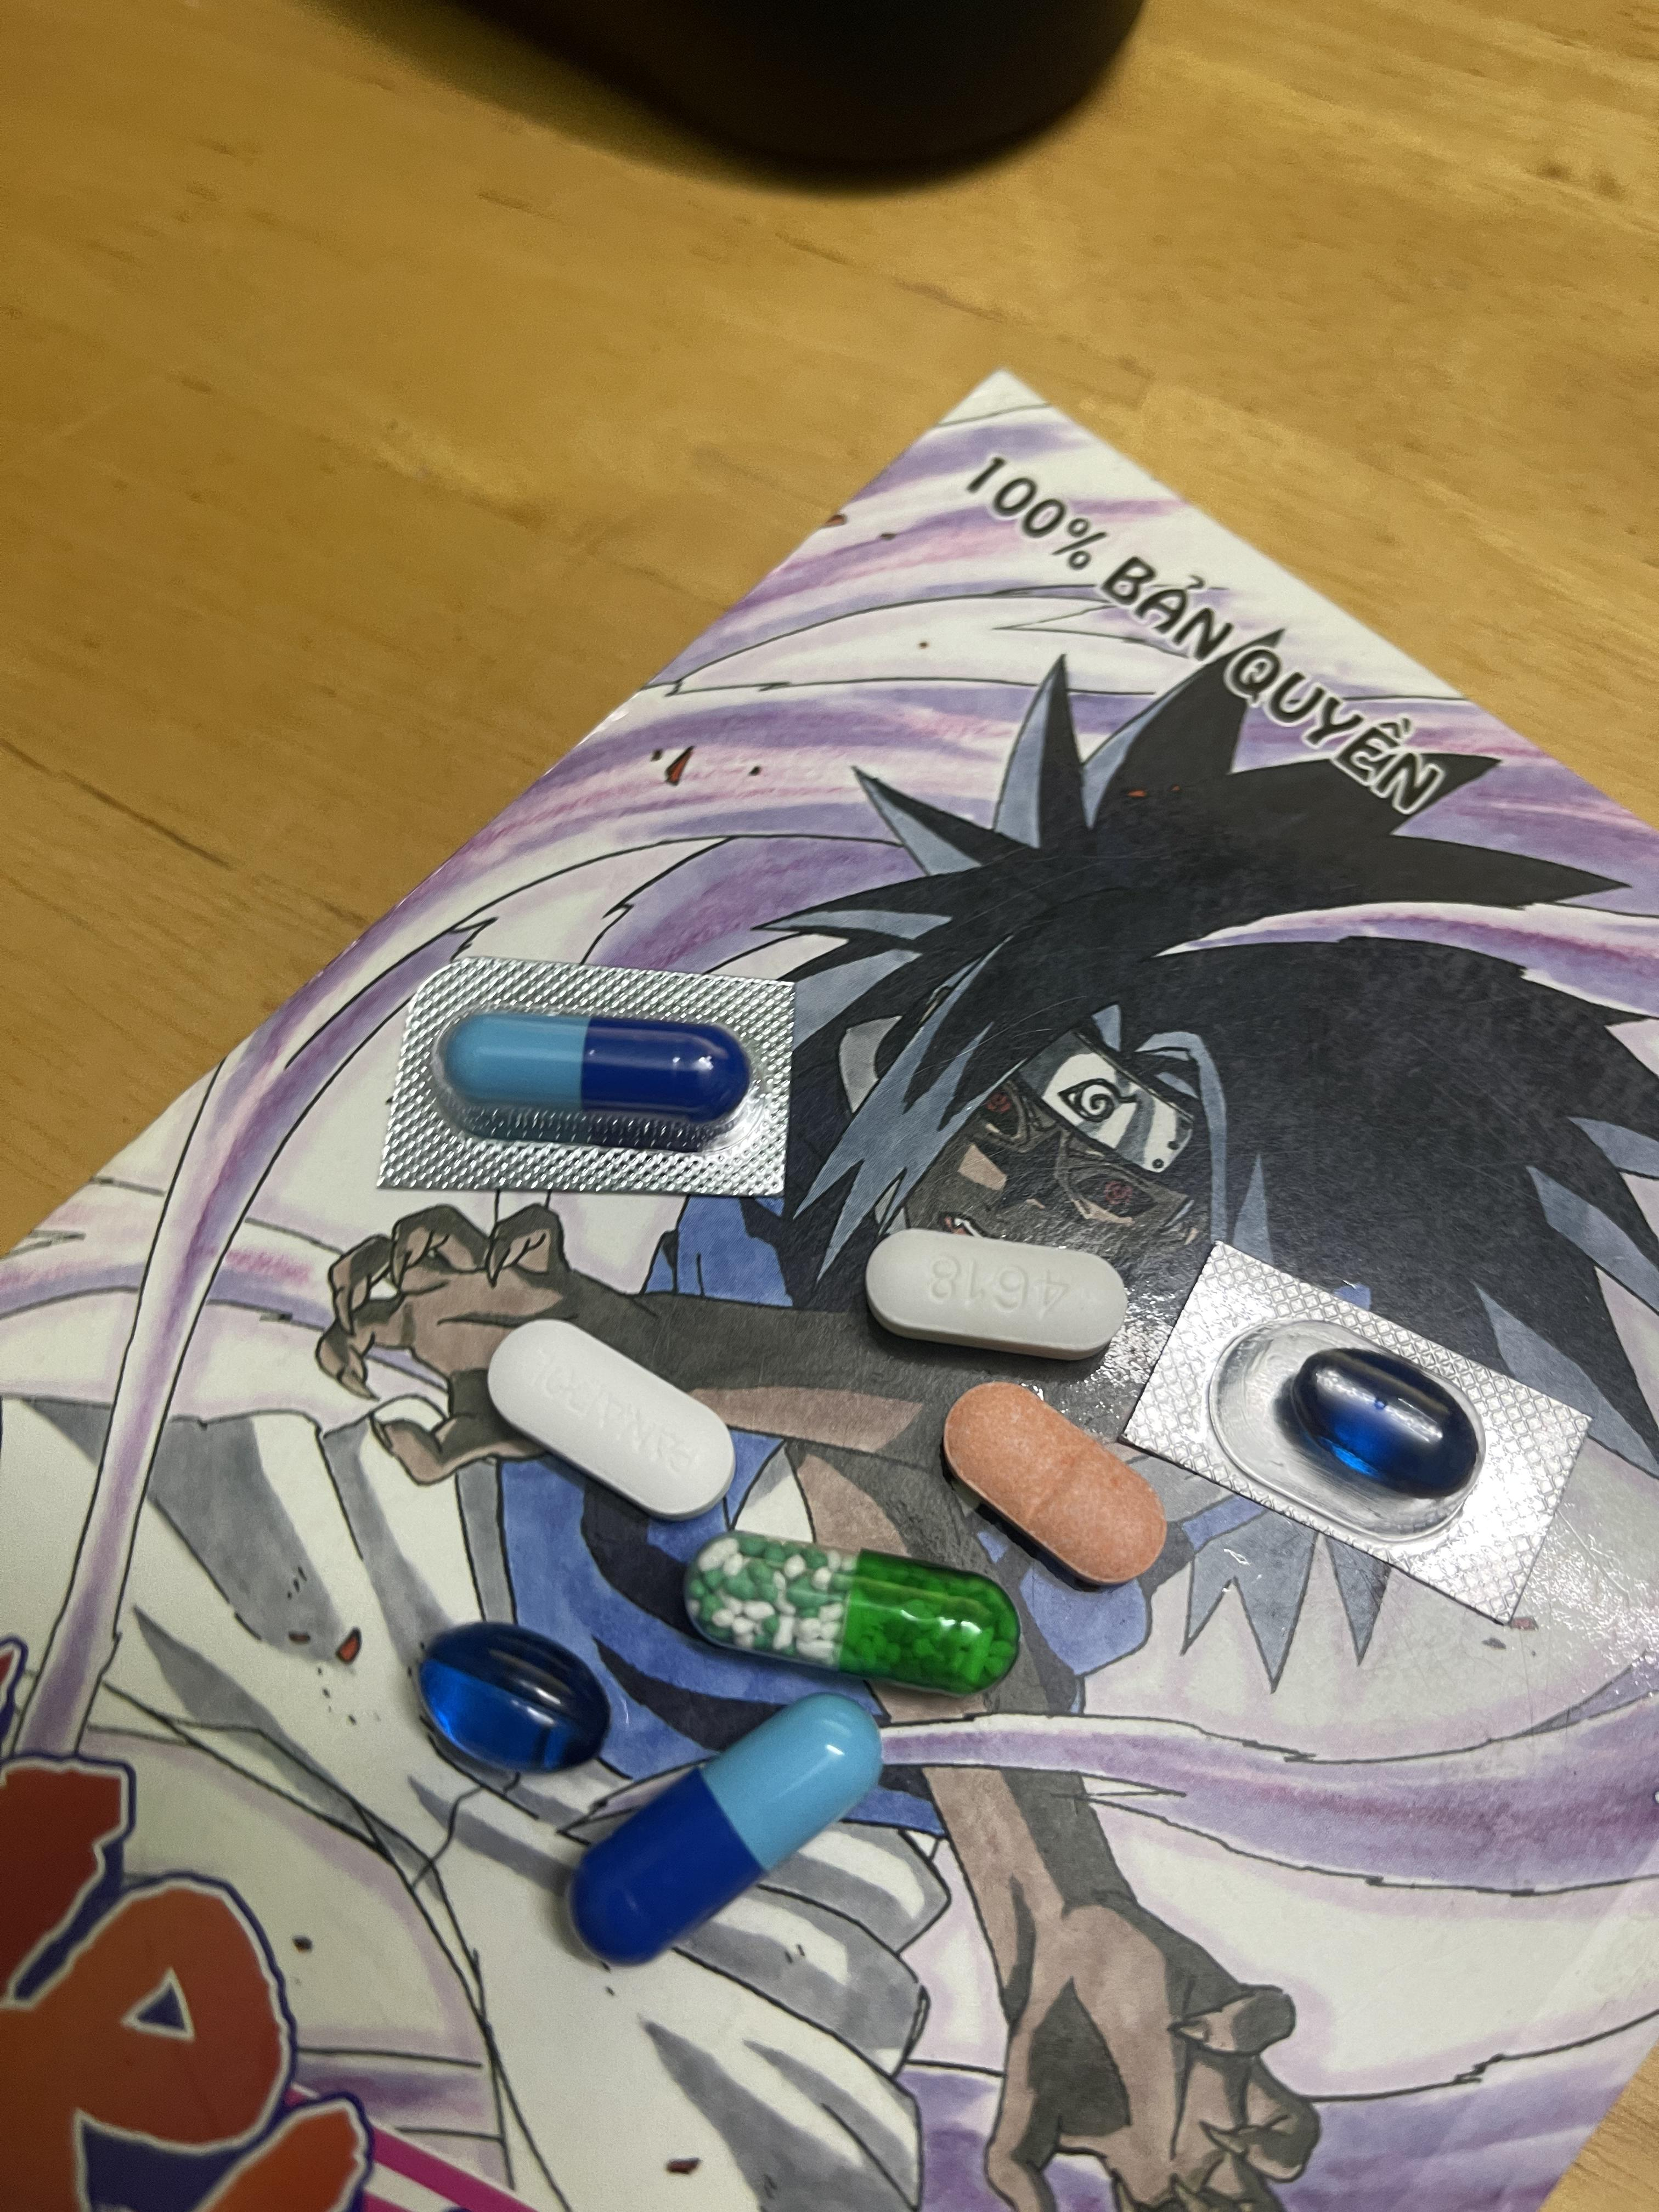Lincomyxin_500mg: (1284, 1345, 1483, 1505), (415, 1622, 613, 1771)
Loratadine_10mg: (945, 1388, 1166, 1583)
Paracetamol_350mg: (490, 1324, 735, 1519)
Paracetamol_500mg: (863, 1226, 1127, 1360)
Paracetamol_650mg: (699, 1541, 1016, 1688)
pill: (573, 1698, 877, 1961), (446, 1014, 749, 1130)
